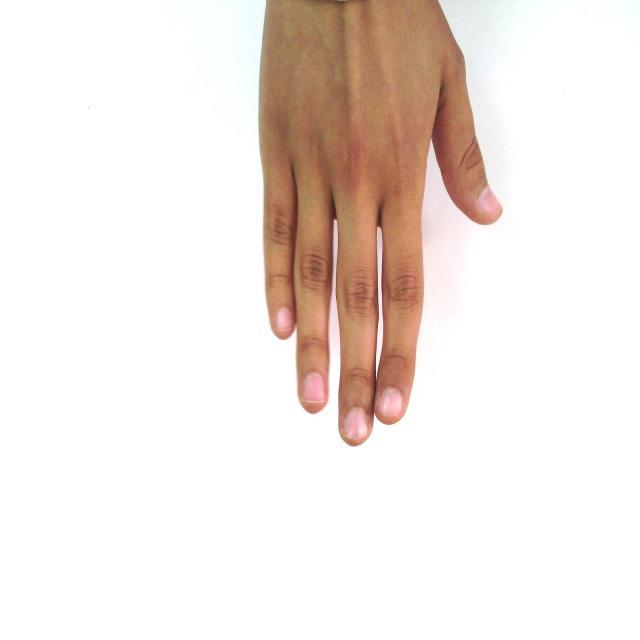Fingernail: (343, 408, 368, 439), (303, 374, 325, 402), (380, 388, 402, 416), (479, 187, 501, 215), (276, 308, 292, 332)
